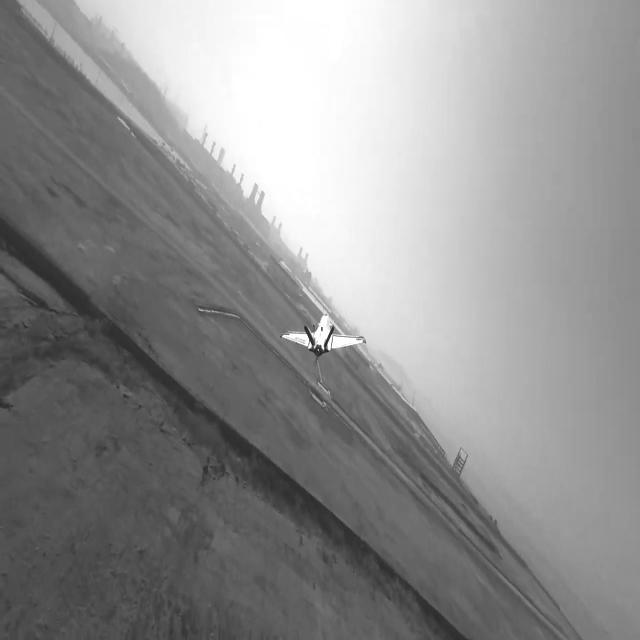iha: (308, 309, 338, 360)
